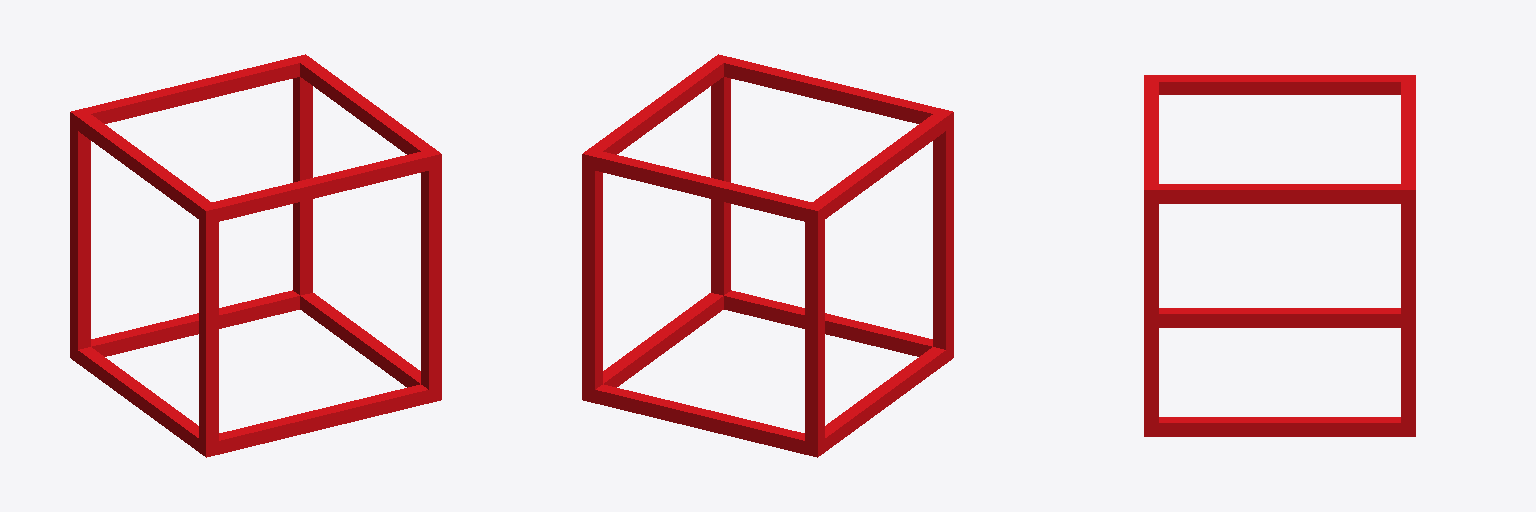
3 renders of one model, left to right at view 1: azimuth 30°, elevation 25°; view 2: azimuth 150°, elevation 25°; view 3: azimuth 270°, elevation 25°, orthographic.
Parts seen in each view (by area): view 1: Cube; view 2: Cube; view 3: Cube.
Boxes of the visible parts, x1,y1,x2,y2 form: Cube: [70, 54, 441, 457]; Cube: [582, 54, 953, 457]; Cube: [1144, 75, 1415, 436].
Size of the model in its own units: 1.69 by 1.69 by 1.69.
1 materials, 1 textured.